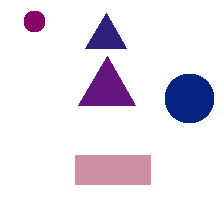circle: (165, 74, 213, 122), (24, 11, 44, 31)
rectangle: (75, 155, 150, 184)
triangle: (78, 56, 135, 105), (85, 13, 126, 48)
